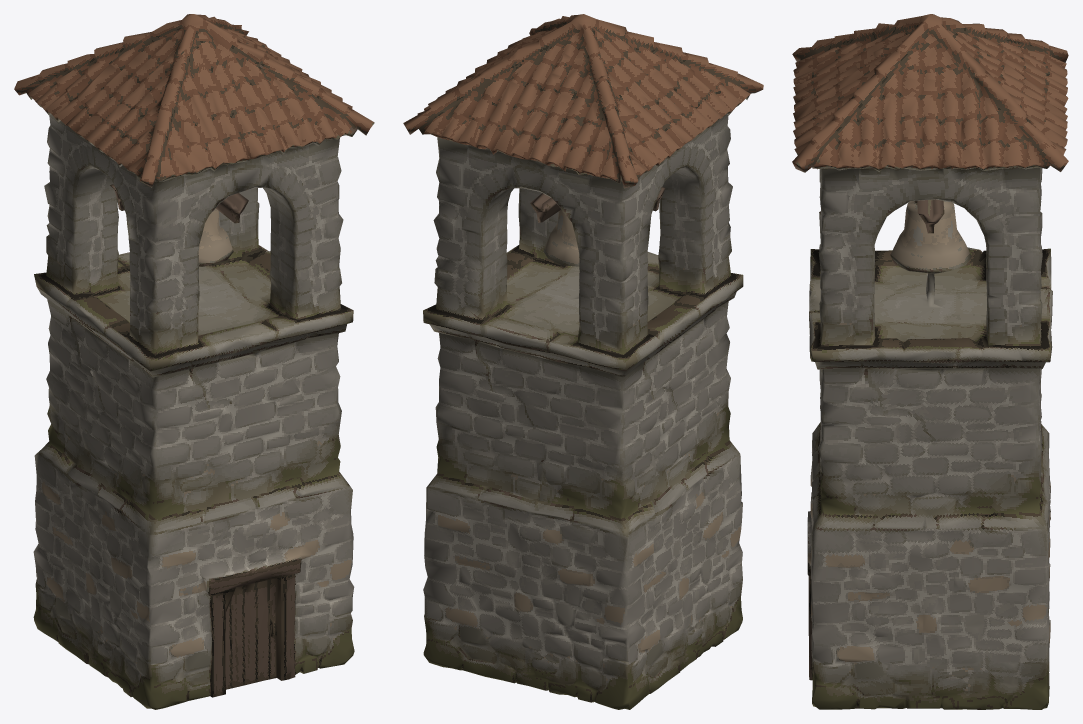
File: campanario.glb
3 views of the same model, side by side, from view 1: azimuth 30°, elevation 25°; view 2: azimuth 150°, elevation 25°; view 3: azimuth 270°, elevation 25° (orthographic). The views are drawn at different scales.
Parts seen in each view (by area): view 1: tripo_node_2c4d74b6-2181-4442-b77c-62b6d250e915; view 2: tripo_node_2c4d74b6-2181-4442-b77c-62b6d250e915; view 3: tripo_node_2c4d74b6-2181-4442-b77c-62b6d250e915.
Boxes of the visible parts, bbox=[...] form: tripo_node_2c4d74b6-2181-4442-b77c-62b6d250e915: bbox=[14, 14, 374, 709]; tripo_node_2c4d74b6-2181-4442-b77c-62b6d250e915: bbox=[403, 14, 763, 709]; tripo_node_2c4d74b6-2181-4442-b77c-62b6d250e915: bbox=[792, 14, 1068, 709].
Size of the model in its own units: 0.3897 by 1 by 0.3882.
Materials: 1 (1 with a texture image).
